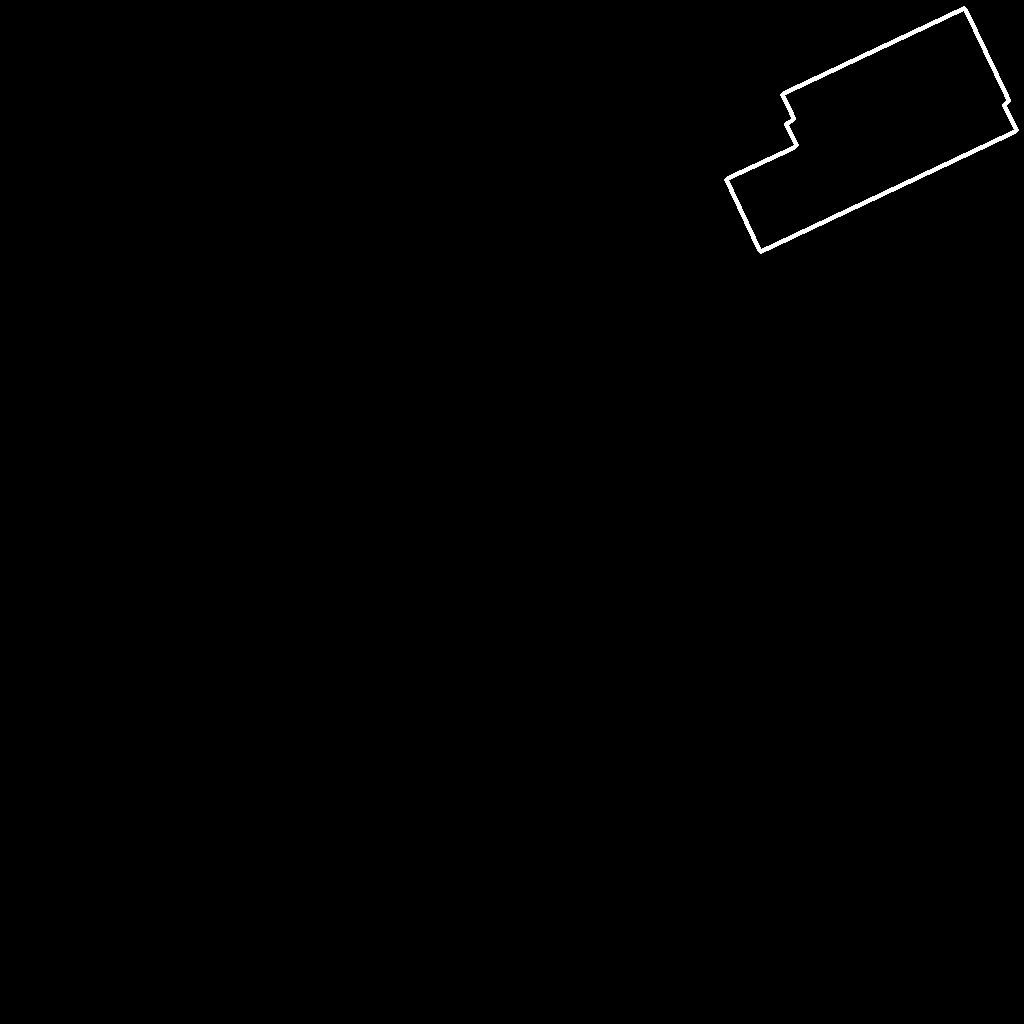building: (726, 8, 1018, 253)
